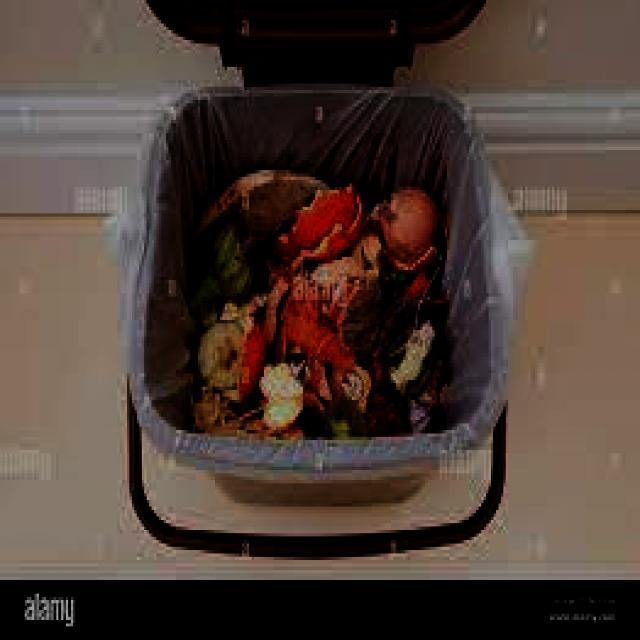Garbage: (193, 169, 446, 438)
